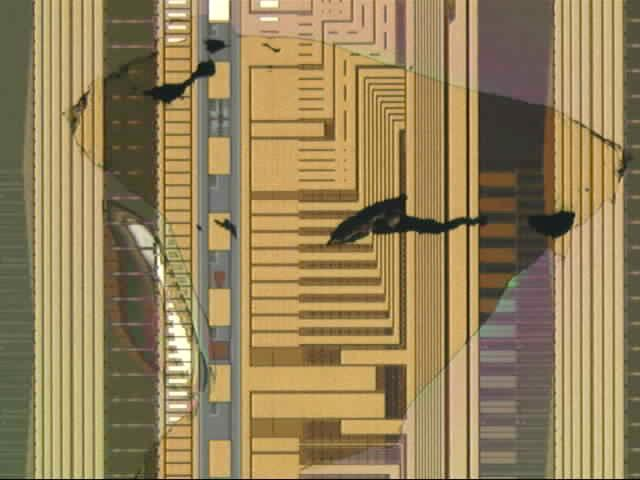COATING BAD: (58, 20, 640, 480)
